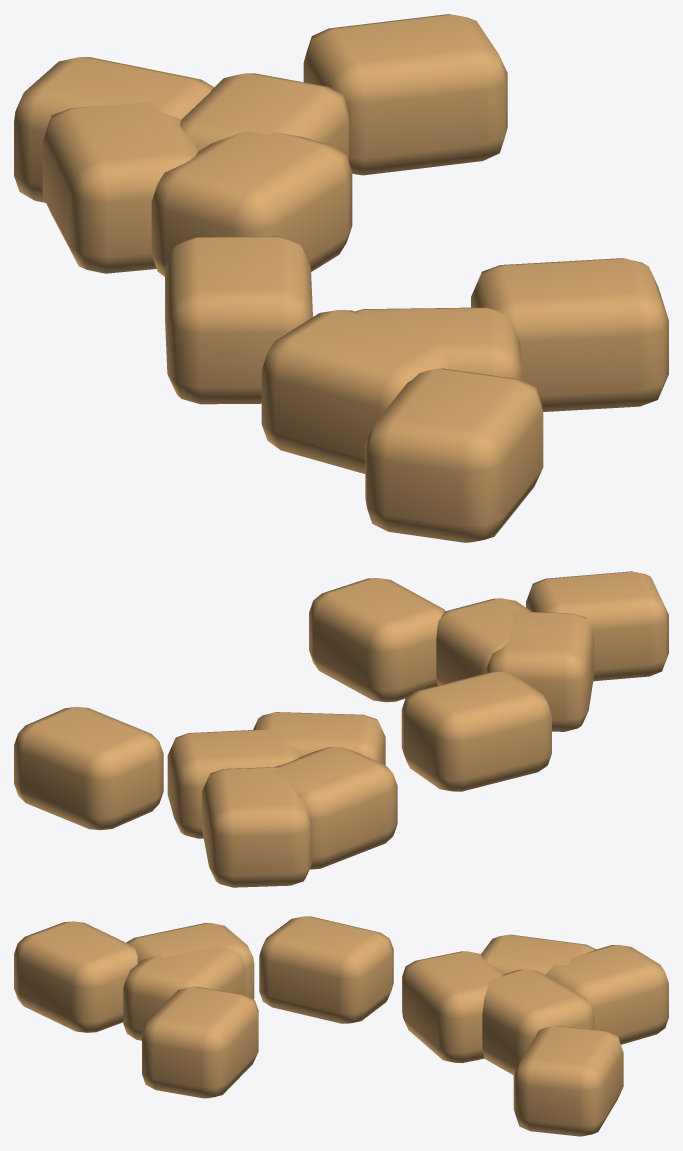
The model's file is NJD-09.glb.
3 renders of one model, top to bottom at view 1: azimuth 30°, elevation 25°; view 2: azimuth 150°, elevation 25°; view 3: azimuth 270°, elevation 25°, orthographic. The views are drawn at different scales.
Visible parts, largest first — view 1: settled rubble.009, settled rubble.006, settled rubble.003, settled rubble, settled rubble.008, settled rubble.004, settled rubble.002, settled rubble.007, settled rubble.001, settled rubble.005; view 2: settled rubble, settled rubble.006, settled rubble.003, settled rubble.007, settled rubble.009, settled rubble.002, settled rubble.004, settled rubble.001, settled rubble.005, settled rubble.008; view 3: settled rubble, settled rubble.003, settled rubble.009, settled rubble.006, settled rubble.008, settled rubble.007, settled rubble.001, settled rubble.005, settled rubble.004, settled rubble.002.
Part boxes in pixels (<box>): settled rubble.009: <box>365,368,543,542</box>; settled rubble.006: <box>303,14,507,175</box>; settled rubble.003: <box>471,258,668,411</box>; settled rubble: <box>165,236,312,404</box>; settled rubble.008: <box>151,126,352,276</box>; settled rubble.004: <box>261,310,448,473</box>; settled rubble.002: <box>42,101,198,273</box>; settled rubble.007: <box>14,57,214,202</box>; settled rubble.001: <box>180,73,349,162</box>; settled rubble.005: <box>354,307,522,380</box>; settled rubble: <box>401,671,551,791</box>; settled rubble.006: <box>14,706,163,830</box>; settled rubble.003: <box>309,578,445,702</box>; settled rubble.007: <box>202,767,312,887</box>; settled rubble.009: <box>526,571,668,681</box>; settled rubble.002: <box>271,746,397,869</box>; settled rubble.004: <box>486,612,594,731</box>; settled rubble.001: <box>167,729,300,838</box>; settled rubble.005: <box>436,598,547,685</box>; settled rubble.008: <box>253,712,385,765</box>; settled rubble: <box>259,916,393,1023</box>; settled rubble.003: <box>142,986,258,1098</box>; settled rubble.009: <box>14,921,137,1032</box>; settled rubble.006: <box>513,1025,623,1136</box>; settled rubble.008: <box>402,951,503,1063</box>; settled rubble.007: <box>546,945,668,1044</box>; settled rubble.001: <box>482,969,594,1075</box>; settled rubble.005: <box>123,942,244,1040</box>; settled rubble.004: <box>126,923,254,999</box>; settled rubble.002: <box>481,934,596,974</box>.
Bounding box in the file's own units: 1.13 × 0.23 × 1.9.
